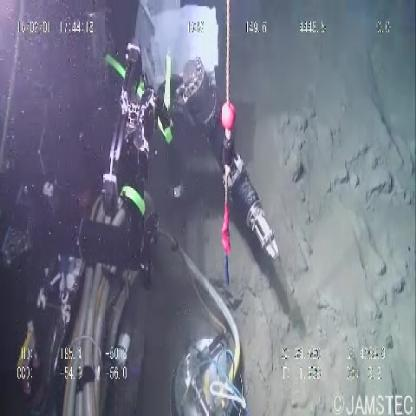Rov: (1, 1, 283, 414)
